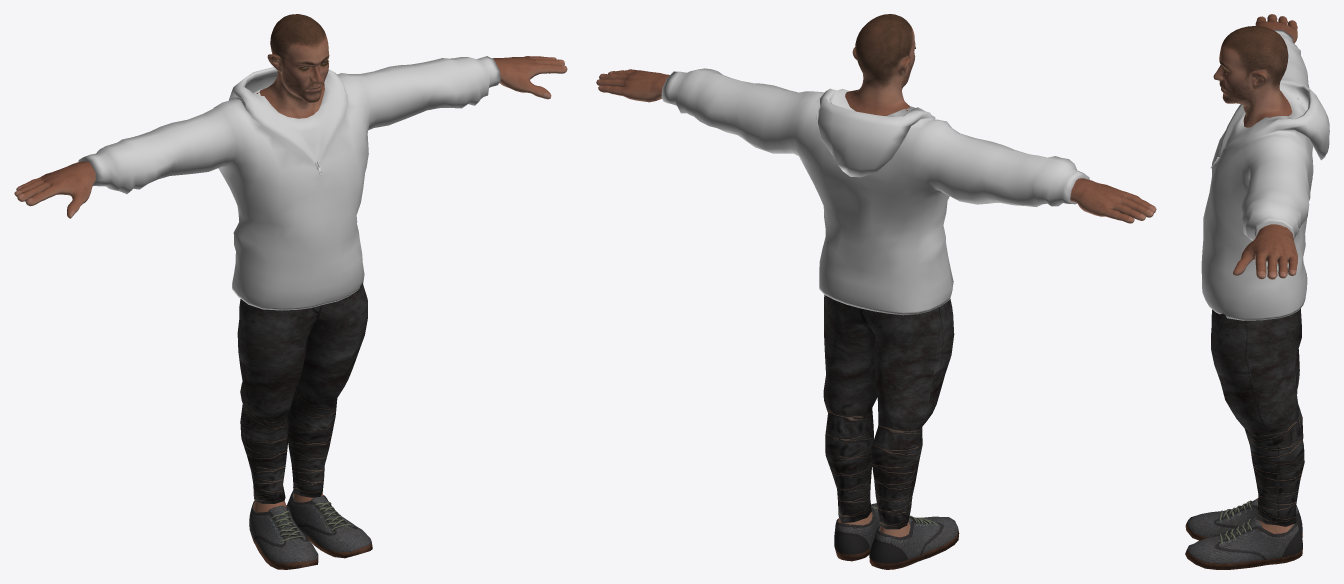
Rendered from HomemNegro.obj.
3 views of the same model, side by side, from view 1: azimuth 30°, elevation 25°; view 2: azimuth 150°, elevation 25°; view 3: azimuth 270°, elevation 25° (orthographic). The views are drawn at different scales.
Visible parts, largest first — view 1: Tops, Bottoms, Body, Shoes; view 2: Tops, Bottoms, Body, Shoes; view 3: Tops, Bottoms, Body, Shoes.
Boxes of the visible parts, left/top/right/bottom form: Tops: left=78, top=56, right=500, bottom=310; Bottoms: left=237, top=283, right=367, bottom=503; Body: left=14, top=14, right=567, bottom=512; Shoes: left=249, top=490, right=372, bottom=569; Tops: left=661, top=68, right=1089, bottom=315; Bottoms: left=823, top=295, right=954, bottom=529; Body: left=596, top=14, right=1156, bottom=537; Shoes: left=834, top=503, right=959, bottom=569; Tops: left=1201, top=29, right=1329, bottom=320; Bottoms: left=1211, top=308, right=1304, bottom=526; Body: left=1213, top=14, right=1297, bottom=533; Shoes: left=1185, top=498, right=1302, bottom=569.
Size of the model in its own units: 192 by 176 by 44.37.
